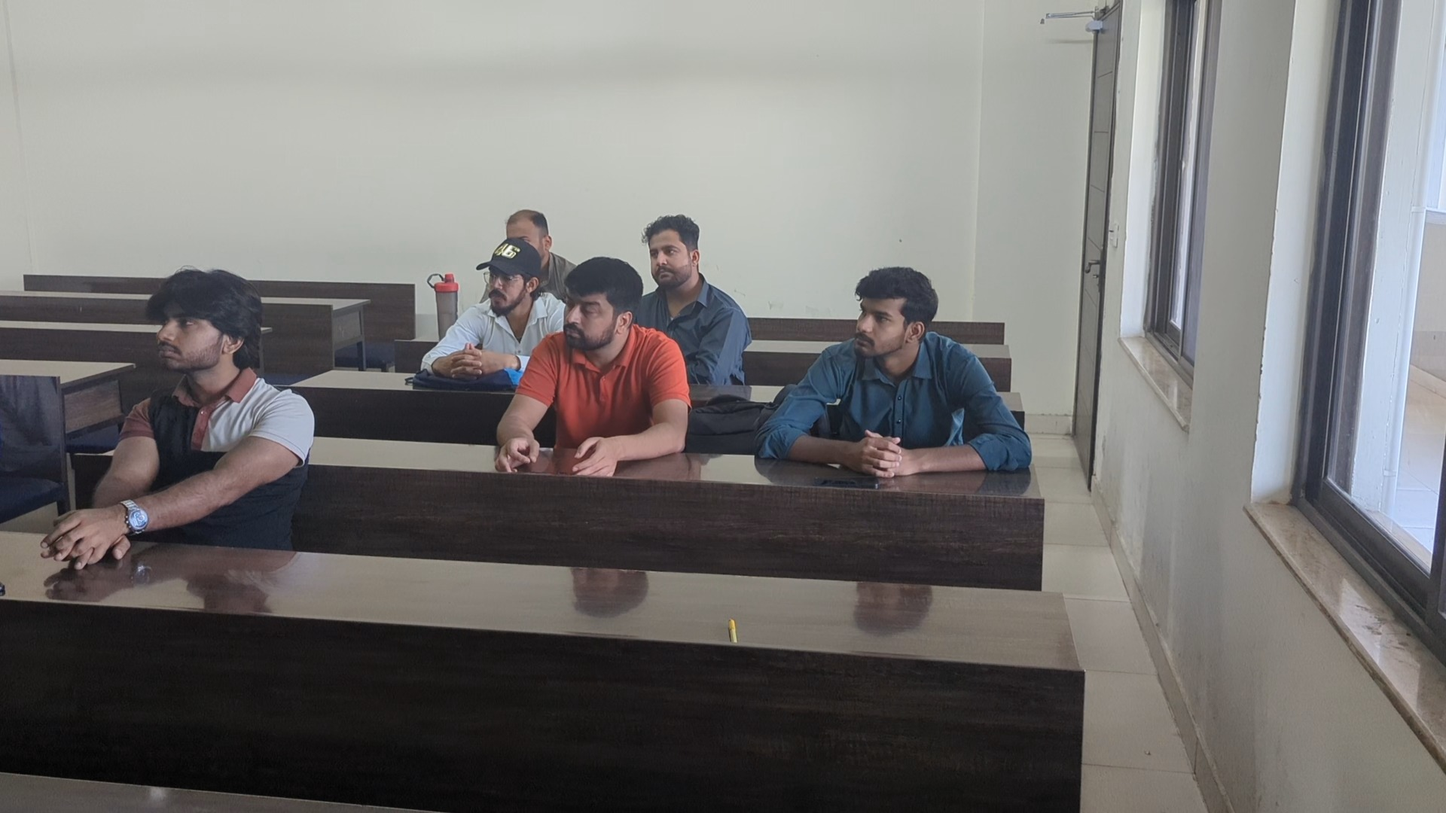look_forward: (73, 287, 308, 504), (830, 264, 994, 457), (551, 270, 651, 434), (646, 196, 752, 324), (483, 248, 545, 344), (514, 205, 581, 261)
